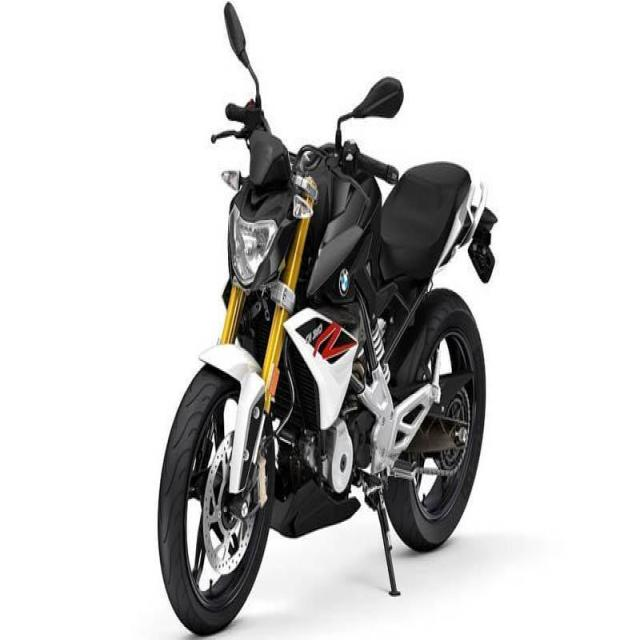motorcycle: (160, 8, 492, 636)
